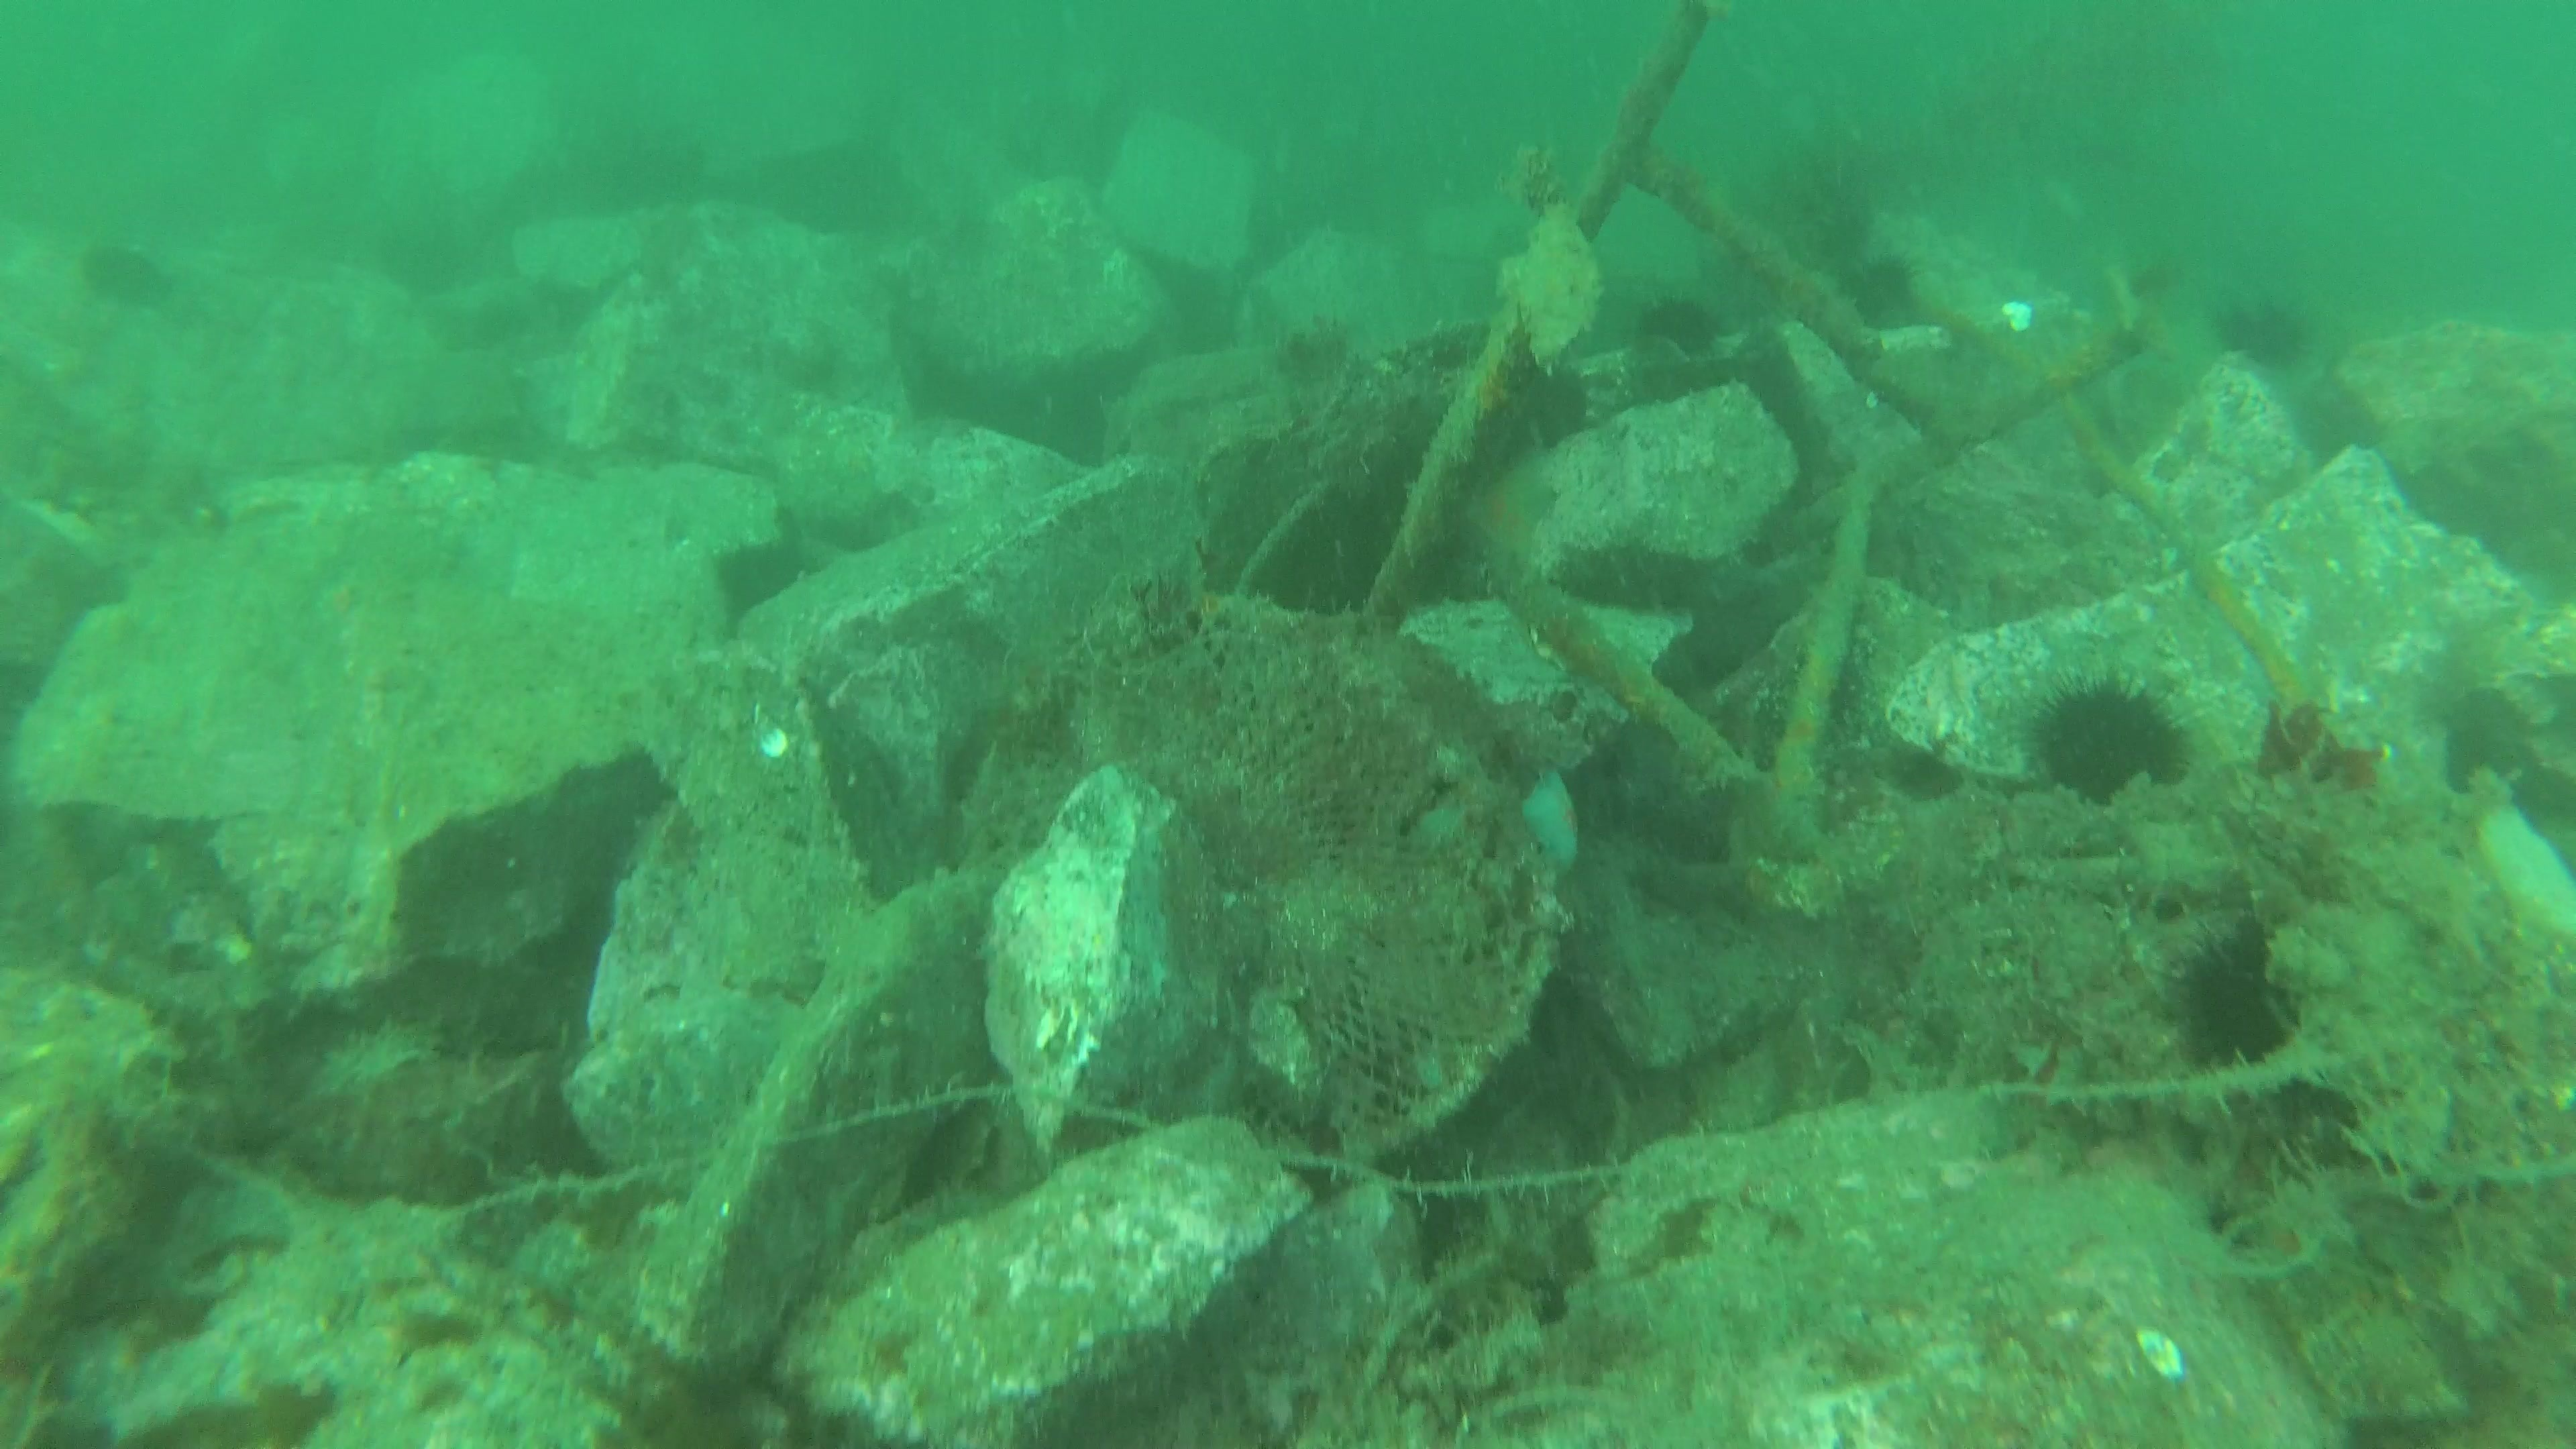echinus: (2020, 667, 2196, 807), (2164, 920, 2309, 1076), (2212, 288, 2318, 375), (1836, 246, 1928, 333), (1629, 287, 1729, 364), (73, 234, 165, 311)
starfish: (1454, 449, 1566, 580), (1513, 761, 1591, 888)
